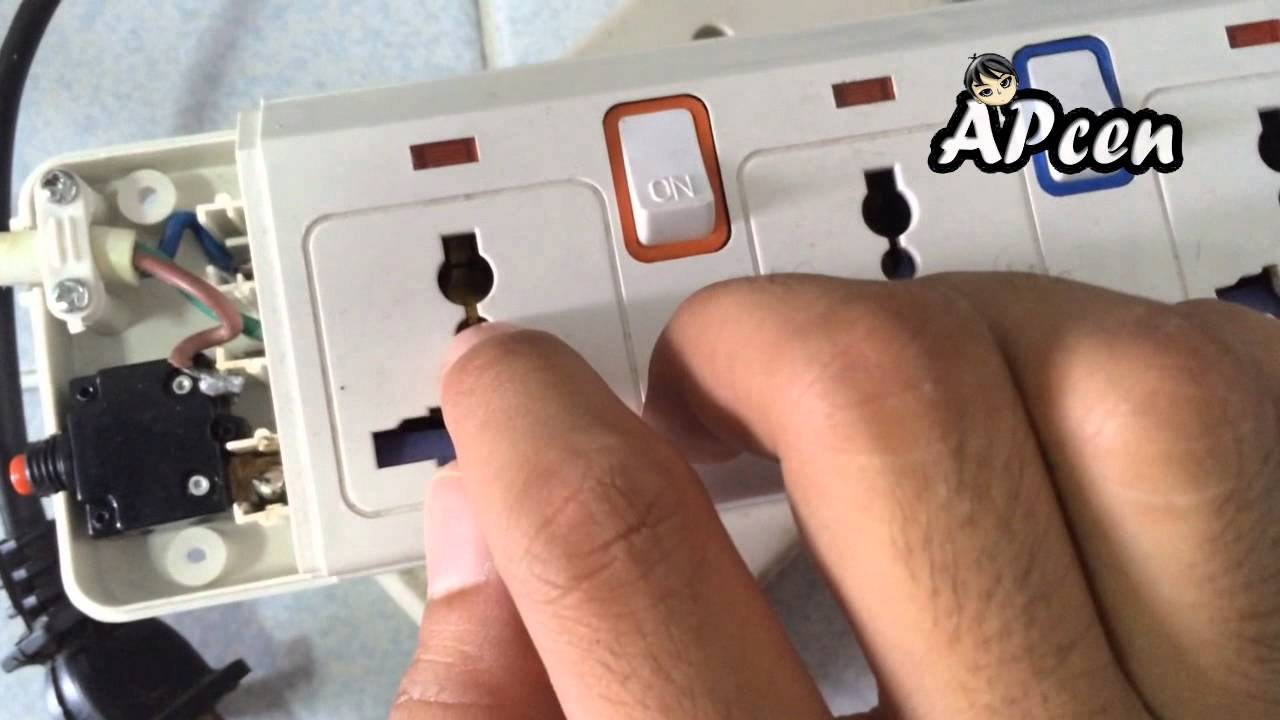Three_eye_plug: (3, 1, 1280, 629)
